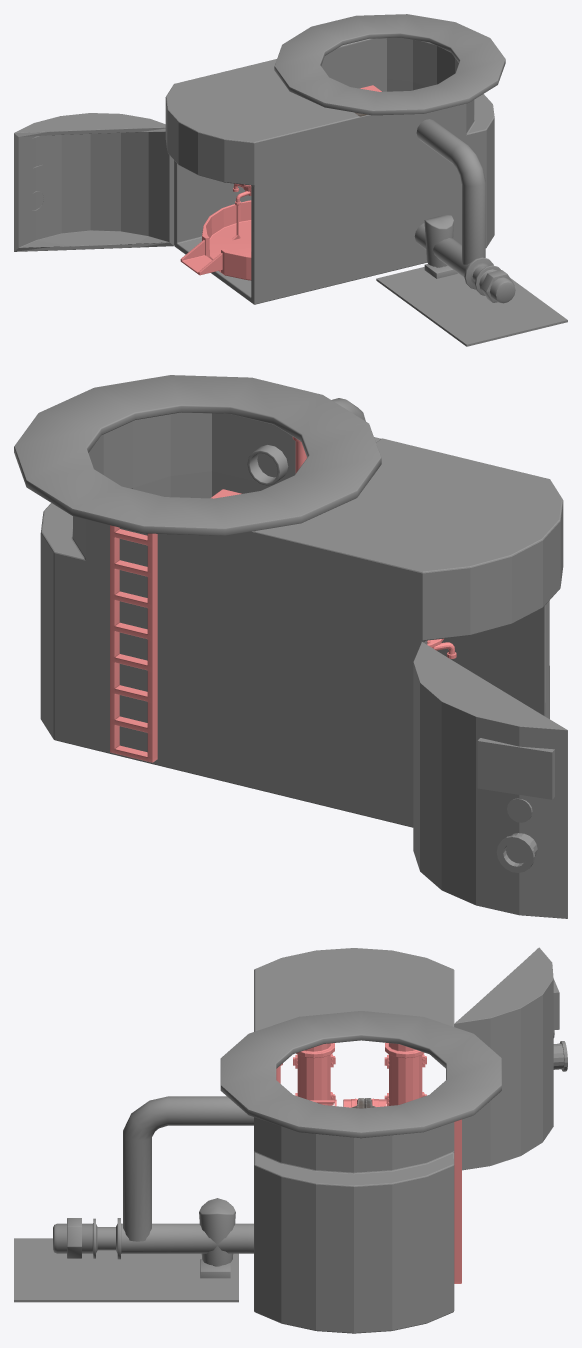
The model's file is dianchi.FBX.
The picture shows the model from 3 angles, top to bottom: view 1: azimuth 30°, elevation 25°; view 2: azimuth 150°, elevation 25°; view 3: azimuth 270°, elevation 25°; orthographic projection. The views are drawn at different scales.
Visible parts, largest first — view 1: 对象004, 对象001, waibu, 对象003, 对象005, 对象008; view 2: 对象004, 对象001, waibu, neibu; view 3: 对象004, waibu, 对象001, 对象003, 对象007, 对象006, neibu.
Part boxes in pixels (left/top/right/bottom): 对象004: left=165, top=37, right=494, bottom=304; 对象001: left=14, top=113, right=173, bottom=251; waibu: left=274, top=14, right=515, bottom=303; 对象003: left=376, top=267, right=567, bottom=346; 对象005: left=202, top=200, right=251, bottom=280; 对象008: left=180, top=240, right=222, bottom=275; 对象004: left=40, top=412, right=563, bottom=827; 对象001: left=413, top=642, right=567, bottom=918; waibu: left=14, top=375, right=381, bottom=535; neibu: left=110, top=436, right=306, bottom=762; 对象004: left=254, top=948, right=454, bottom=1333; waibu: left=53, top=1011, right=501, bottom=1278; 对象001: left=454, top=947, right=567, bottom=1170; 对象003: left=14, top=1238, right=238, bottom=1302; 对象007: left=384, top=1042, right=426, bottom=1105; 对象006: left=293, top=1043, right=335, bottom=1105; neibu: left=276, top=1063, right=461, bottom=1283.
Size of the model in its own units: 131 by 52.04 by 125.
